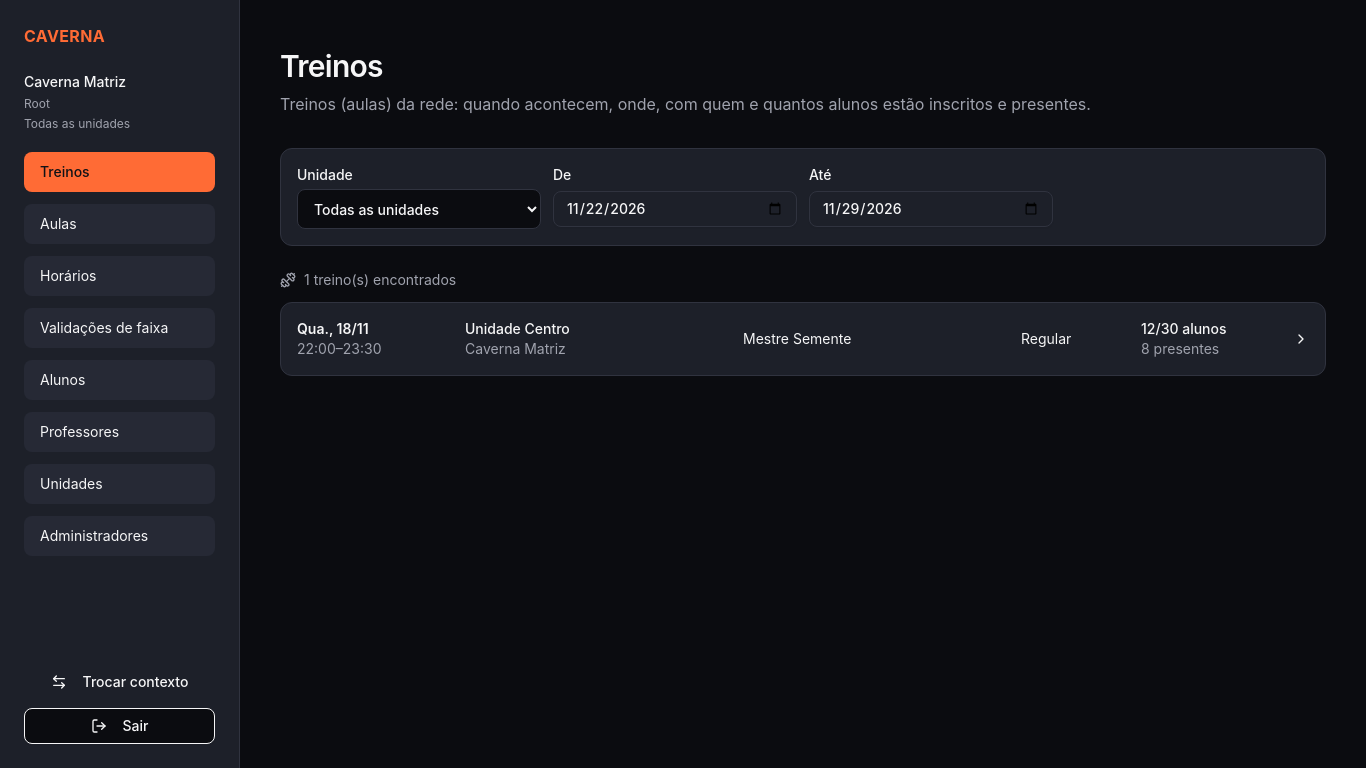
lists trainings with seat usage and expands the roster
Expected: the text "12/30 alunos" is shown, [1141,320,1226,337]
Expected: the text "8 presentes" is shown, [1141,340,1219,357]
Click the button that starts with "qua., 18/11". click: (803, 339)
box: [281,303,1325,375]
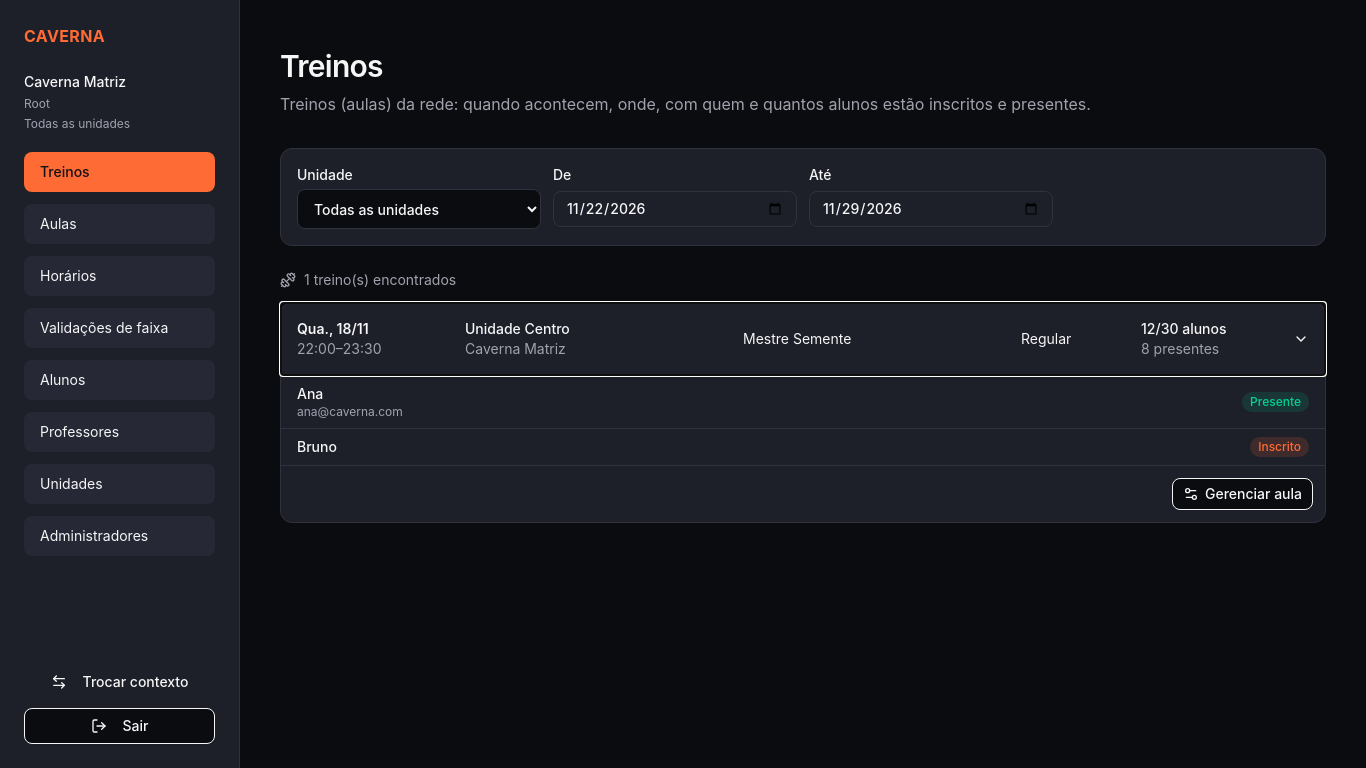
Result: the text "Ana" is shown at [297,385,323,402]
Result: the text "Presente" is shown at [1242,392,1309,412]
Result: the text "Inscrito" is shown at [1250,437,1309,457]
